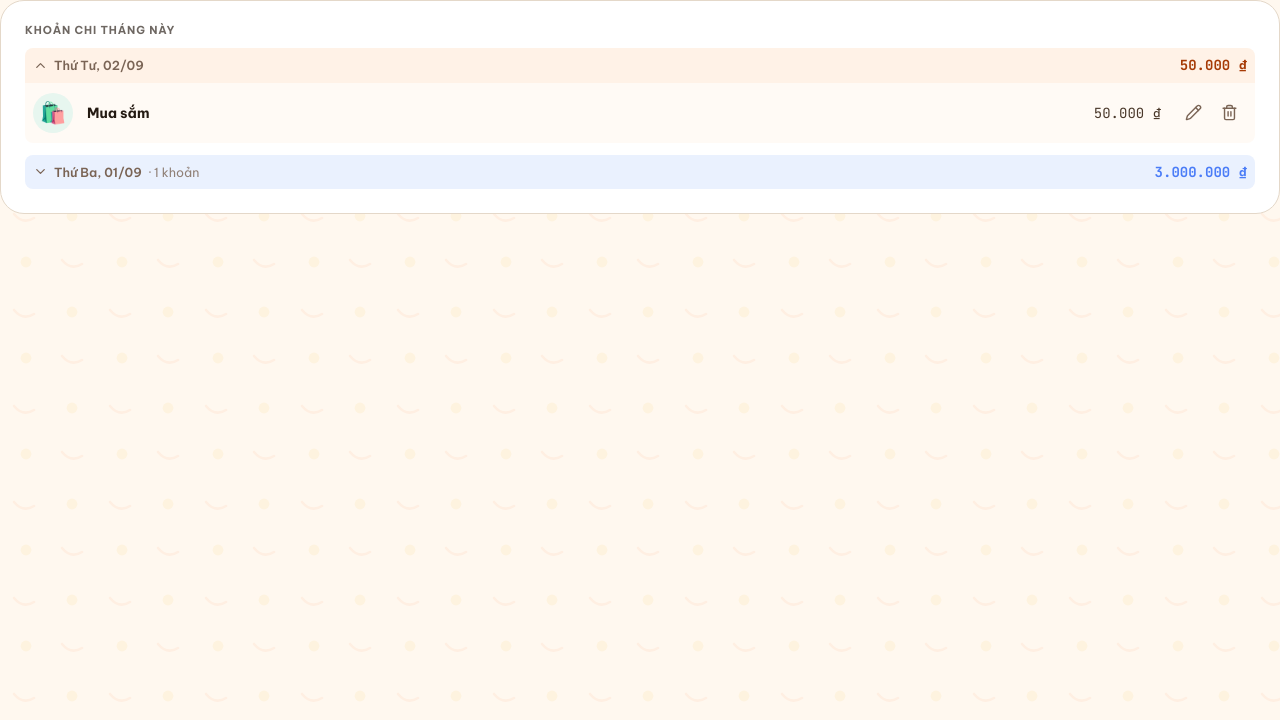
ExpenseListCard › keeps the expense when the confirmation is cancelled
The width and height of the screenshot is (1280, 720).
Step 1. Click the button with test id "expense-day-header" → [98, 172], box [25,155,1255,189]
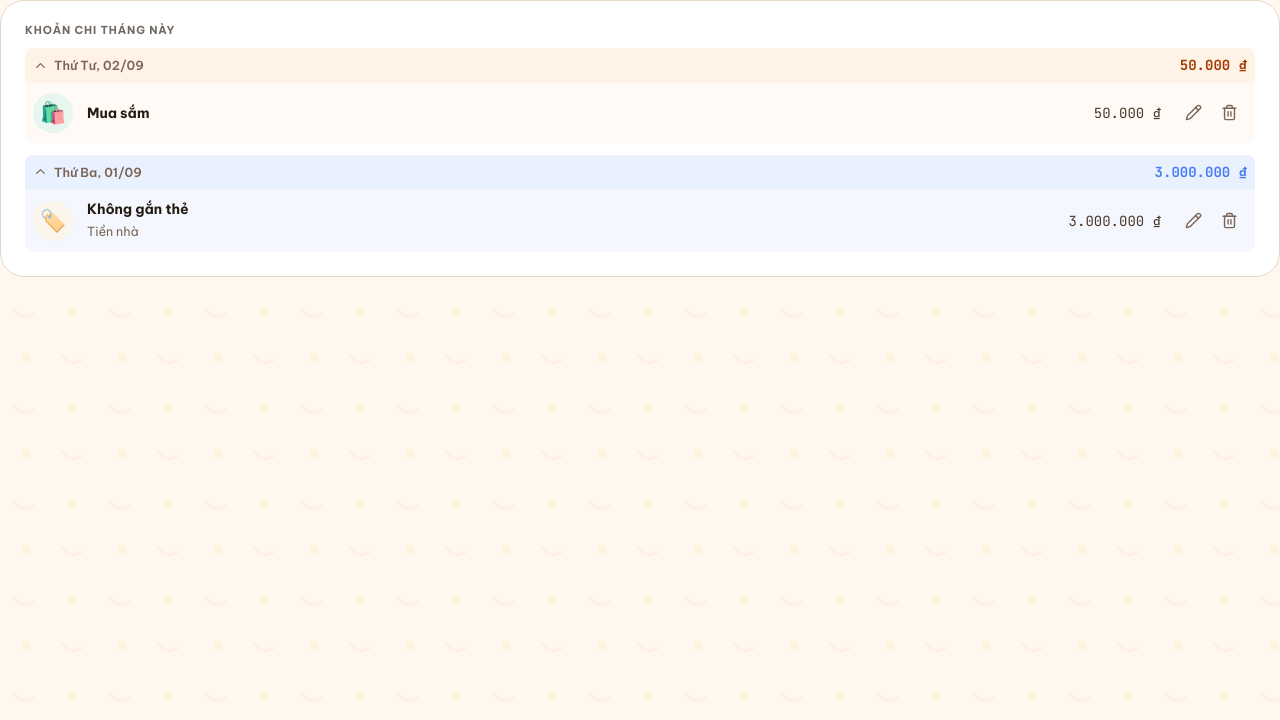
Step 2. Click the button named "Xoá khoản chi Không gắn thẻ" → [1229, 221], box [1211,203,1247,239]
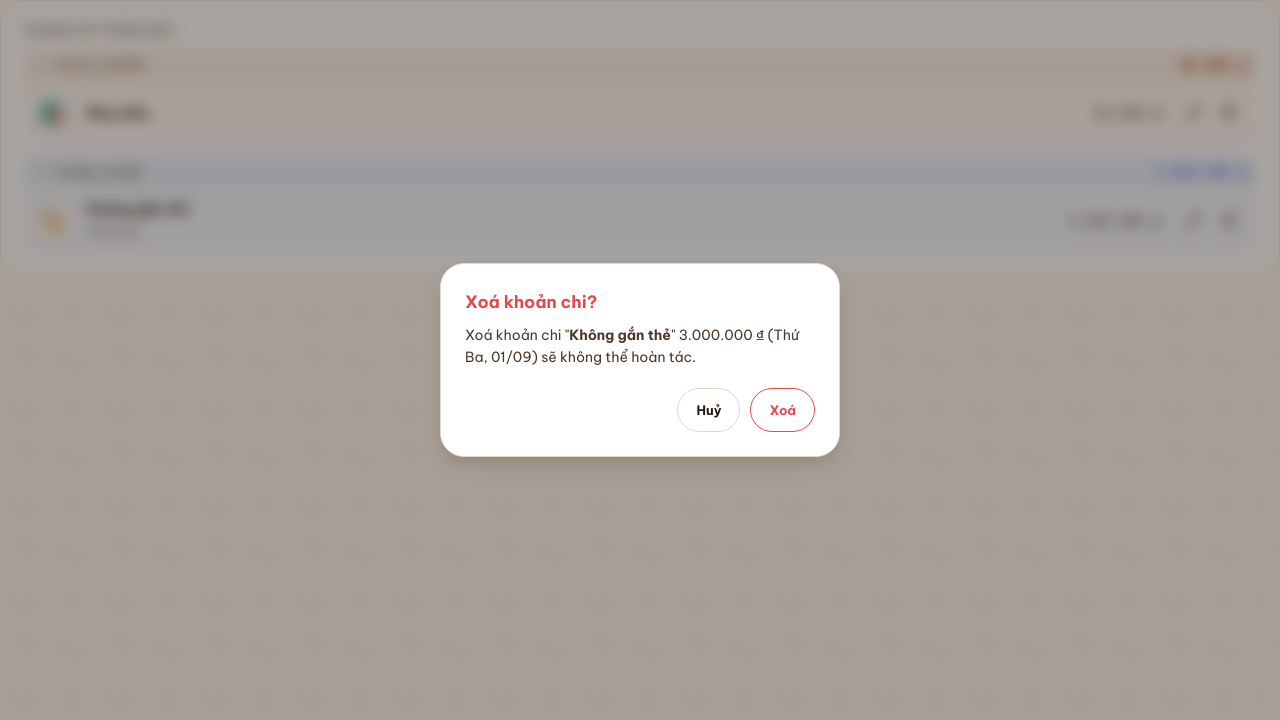
Step 3. Click the button "Huỷ" → [709, 410], box [678,388,740,432]
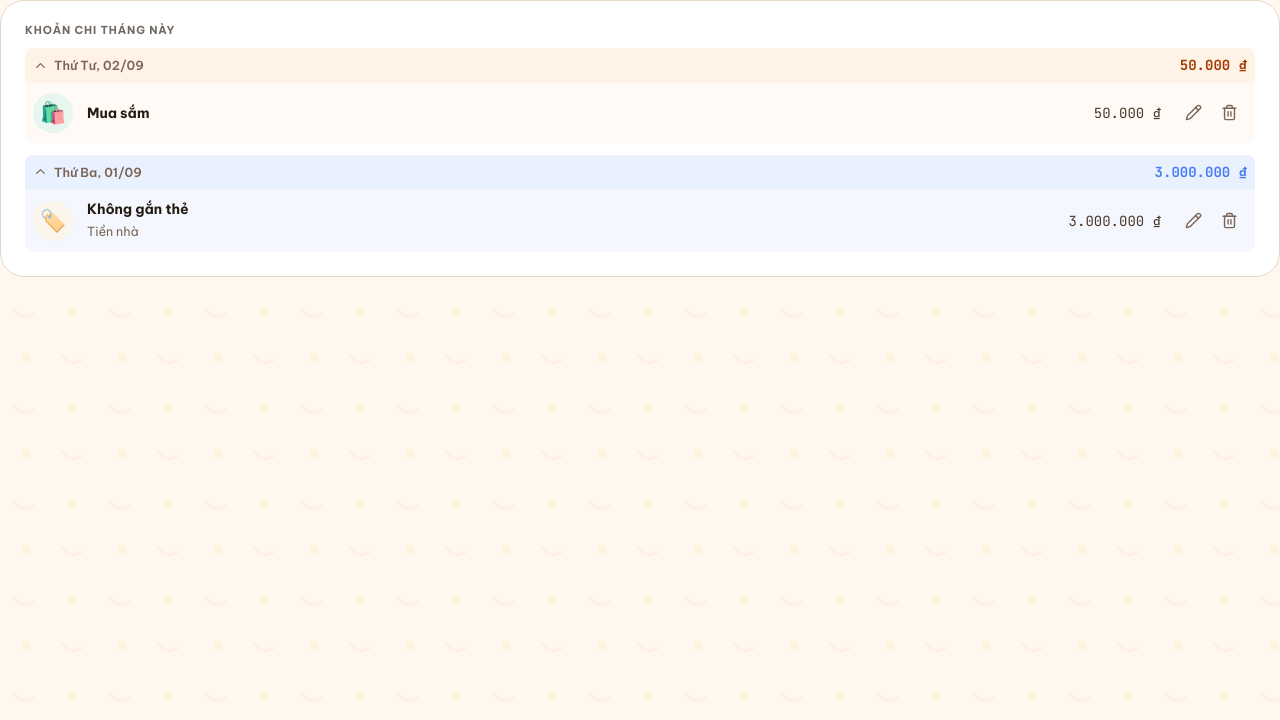
Now the dialog is gone
